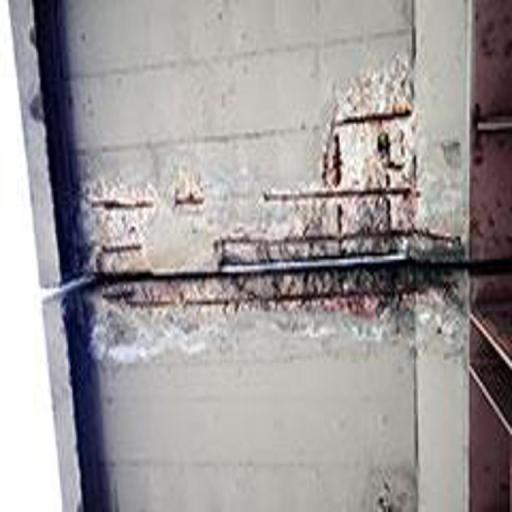spalling: (80, 50, 415, 326)
